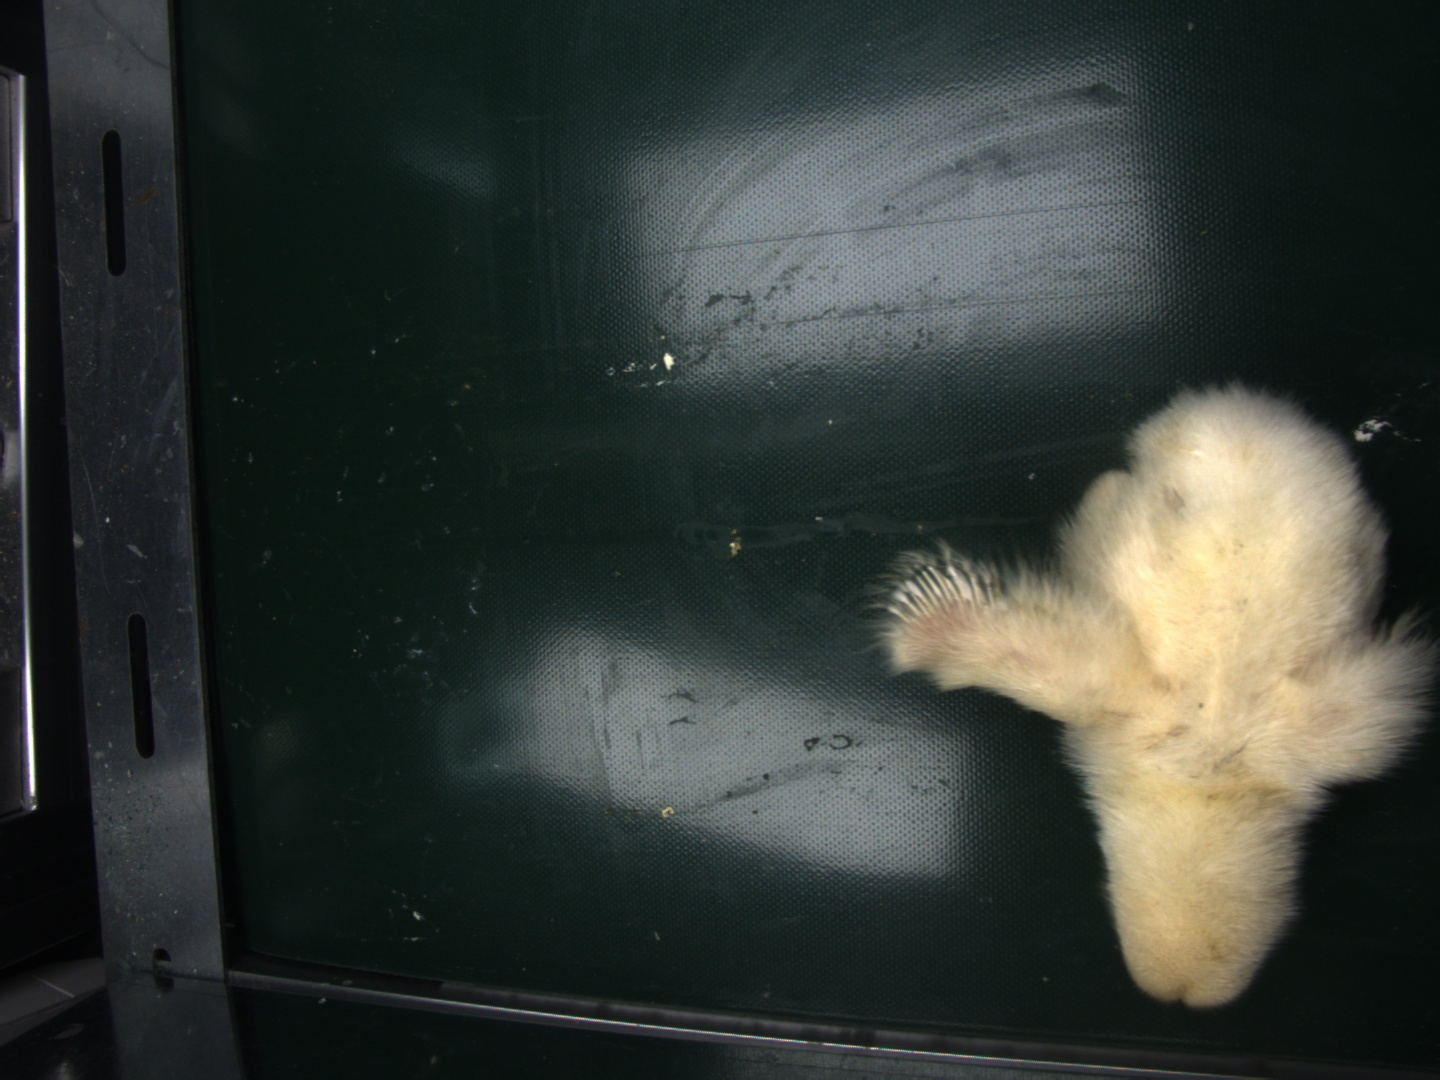male: (888, 559, 985, 630)
